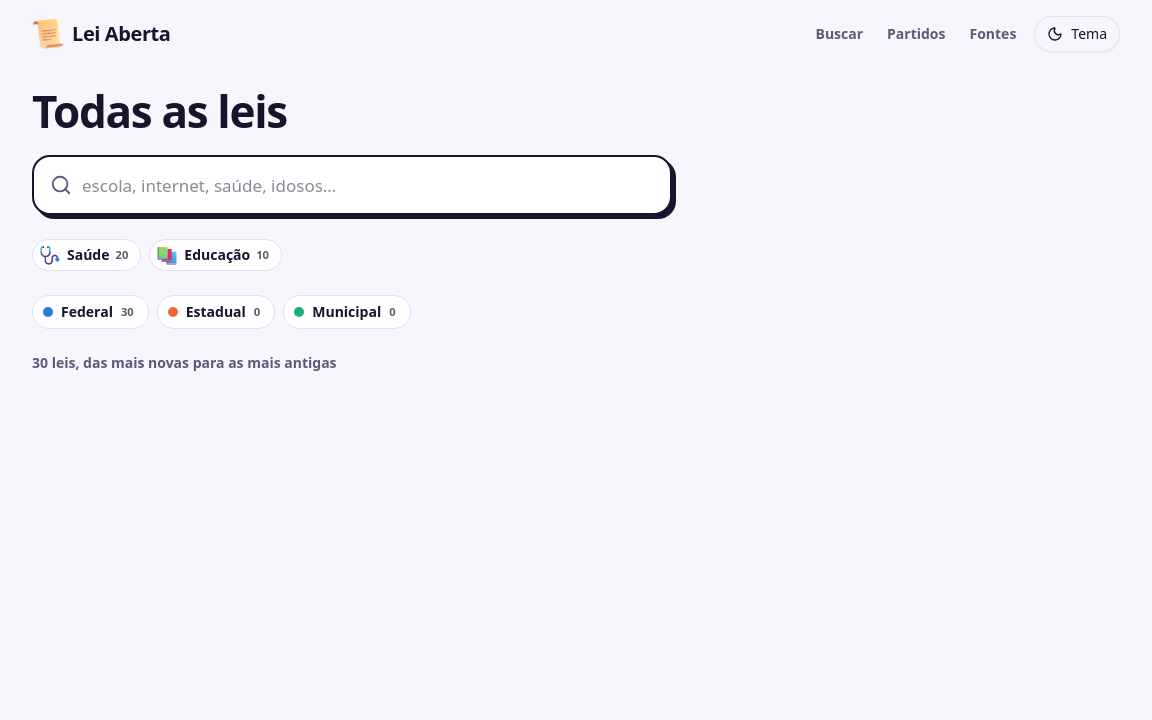
Test case: Results › searches as you type and keeps the words in the address bar
Step 1. Type "número 7" into the search field → (373, 185), box [82,163,664,207]
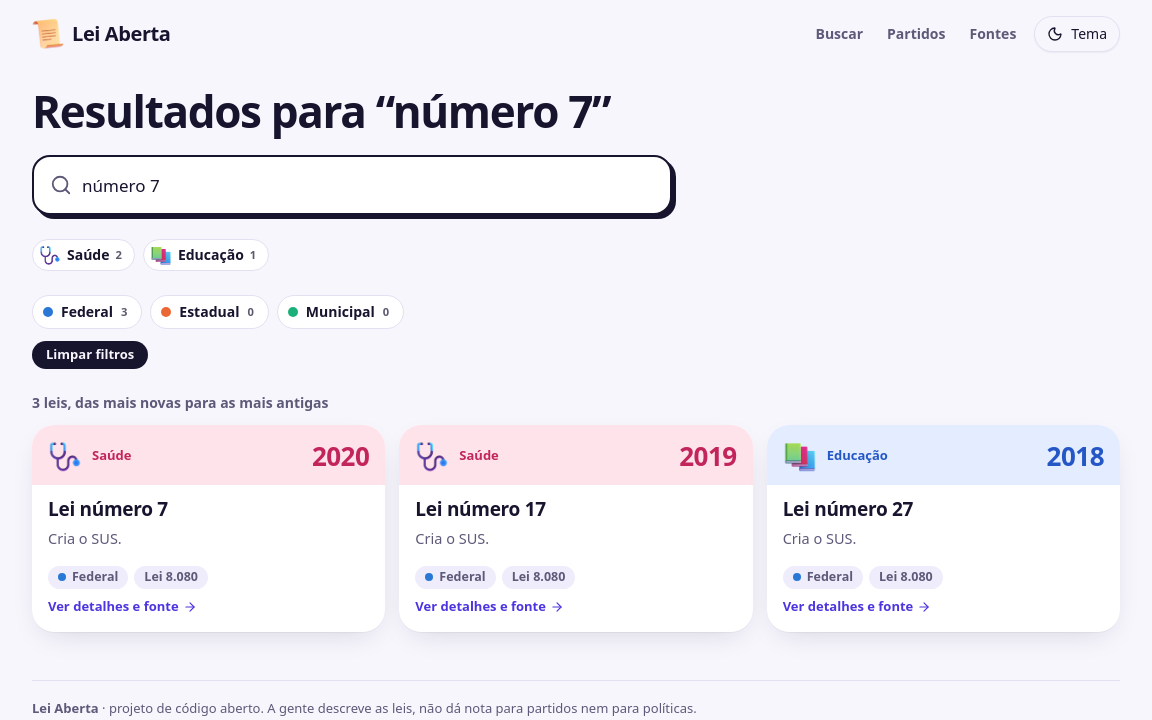
Expected: the heading "Resultados para “número 7”" is shown, [32,81,610,141]
